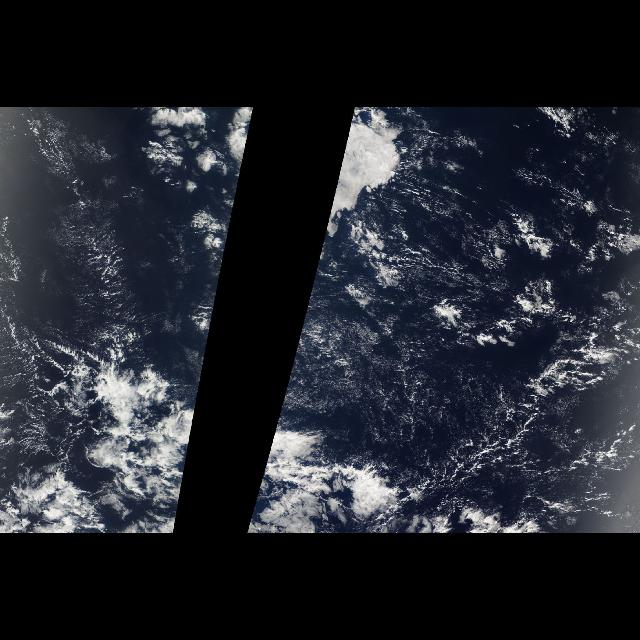Flower: (312, 130, 403, 286), (221, 130, 251, 270)
Gravel: (432, 342, 640, 526)
Sugar: (271, 273, 541, 457), (23, 114, 154, 352), (186, 298, 217, 442)
